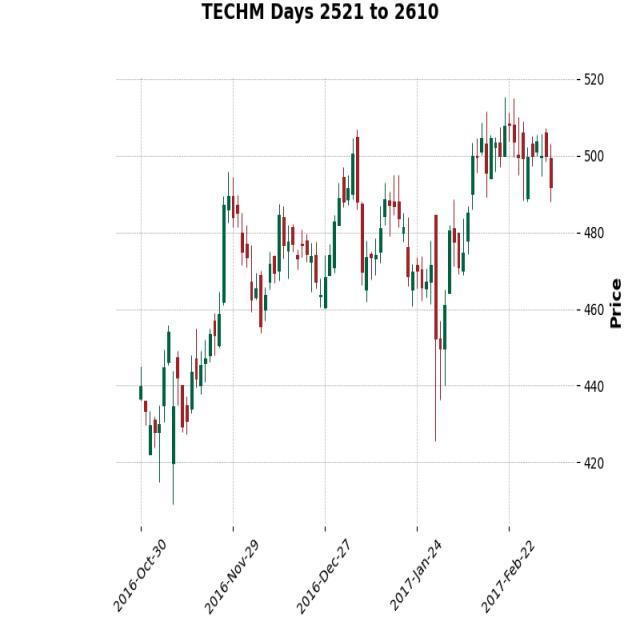Ascending Triangle: (453, 103, 557, 387)
